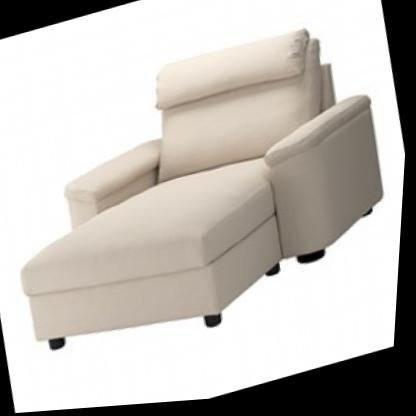Sofa: (0, 2, 415, 392)
